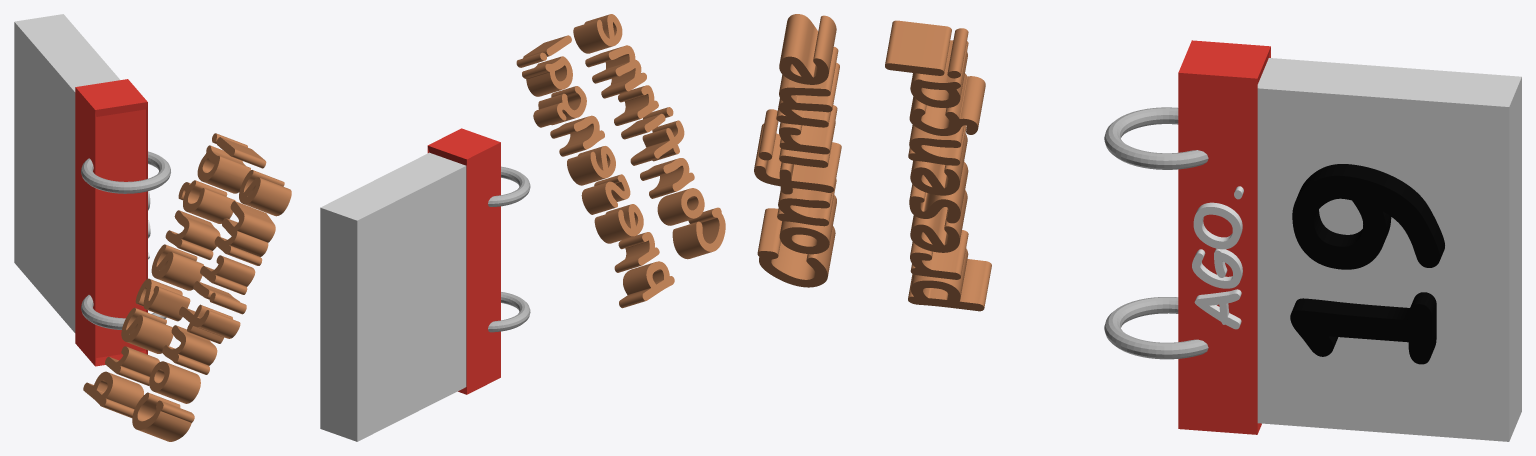
Rendered from calendar.glb.
3 renders of one model, left to right at view 1: azimuth 30°, elevation 25°; view 2: azimuth 150°, elevation 25°; view 3: azimuth 270°, elevation 25°, orthographic. The views are drawn at different scales.
Visible parts, largest first — view 1: calendar, click_call; view 2: calendar, click_call; view 3: calendar, click_call, day, month.
Part boxes in pixels (x1,y1,x2,y2): calendar: (14,14,170,366); click_call: (83,133,291,441); calendar: (320,128,530,441); click_call: (516,14,725,308); calendar: (1104,40,1521,441); click_call: (754,14,991,311); day: (1290,164,1444,364); month: (1192,186,1243,329).
Bounding box in the file's own units: 0.732 × 1.05 × 1.84.
